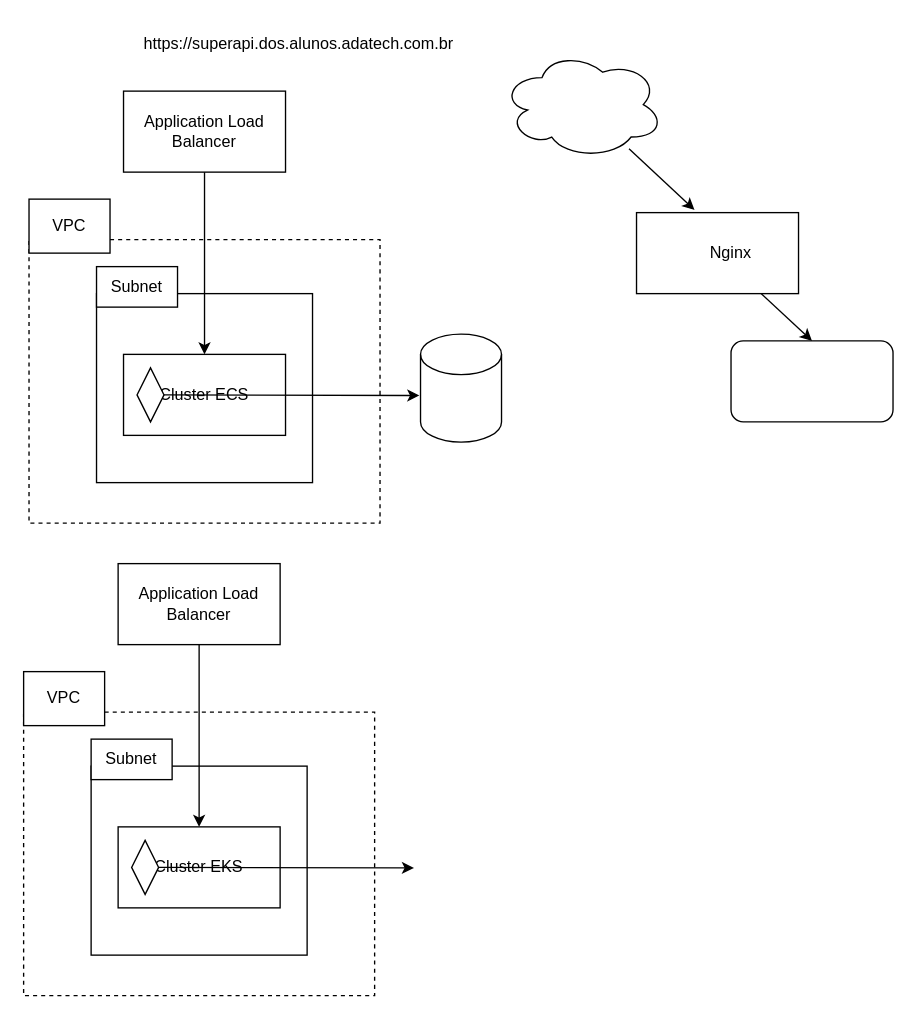
The diagram is 917 pixels wide and 1019 high, and some of its shapes have lost their labels. The centre of each missing label's shape, as x and y in pixels:
Aurora DB: the point at 460,387
Internet: the point at 582,104
Node: the point at 811,381
